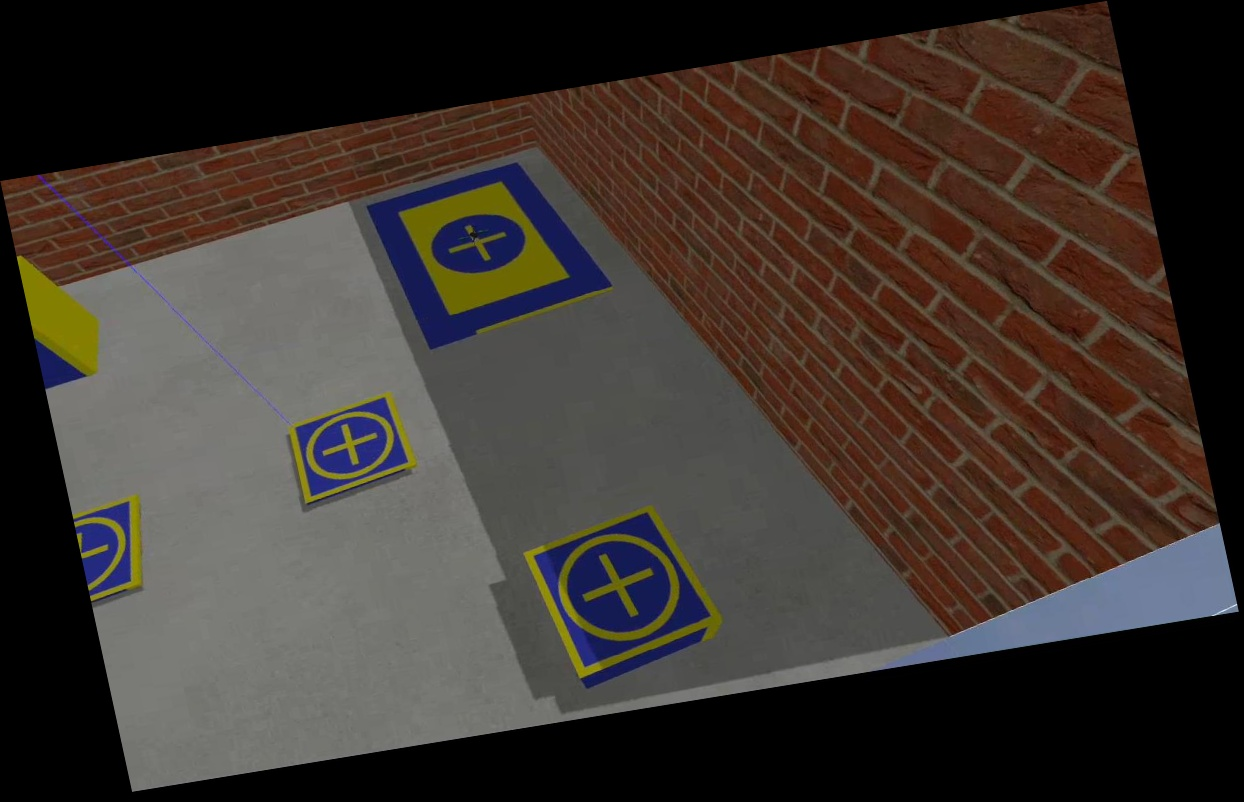large_base: (361, 152, 623, 355)
small_base: (520, 499, 733, 684), (279, 389, 421, 509), (70, 493, 162, 606)
